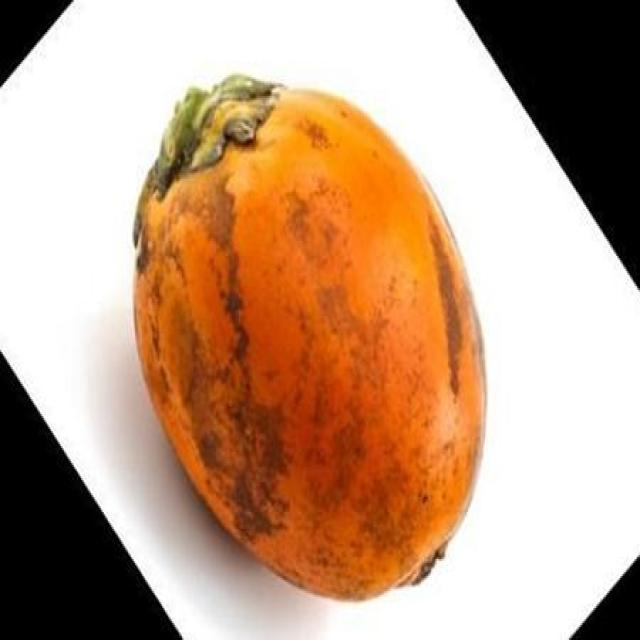good: (131, 73, 489, 604)
